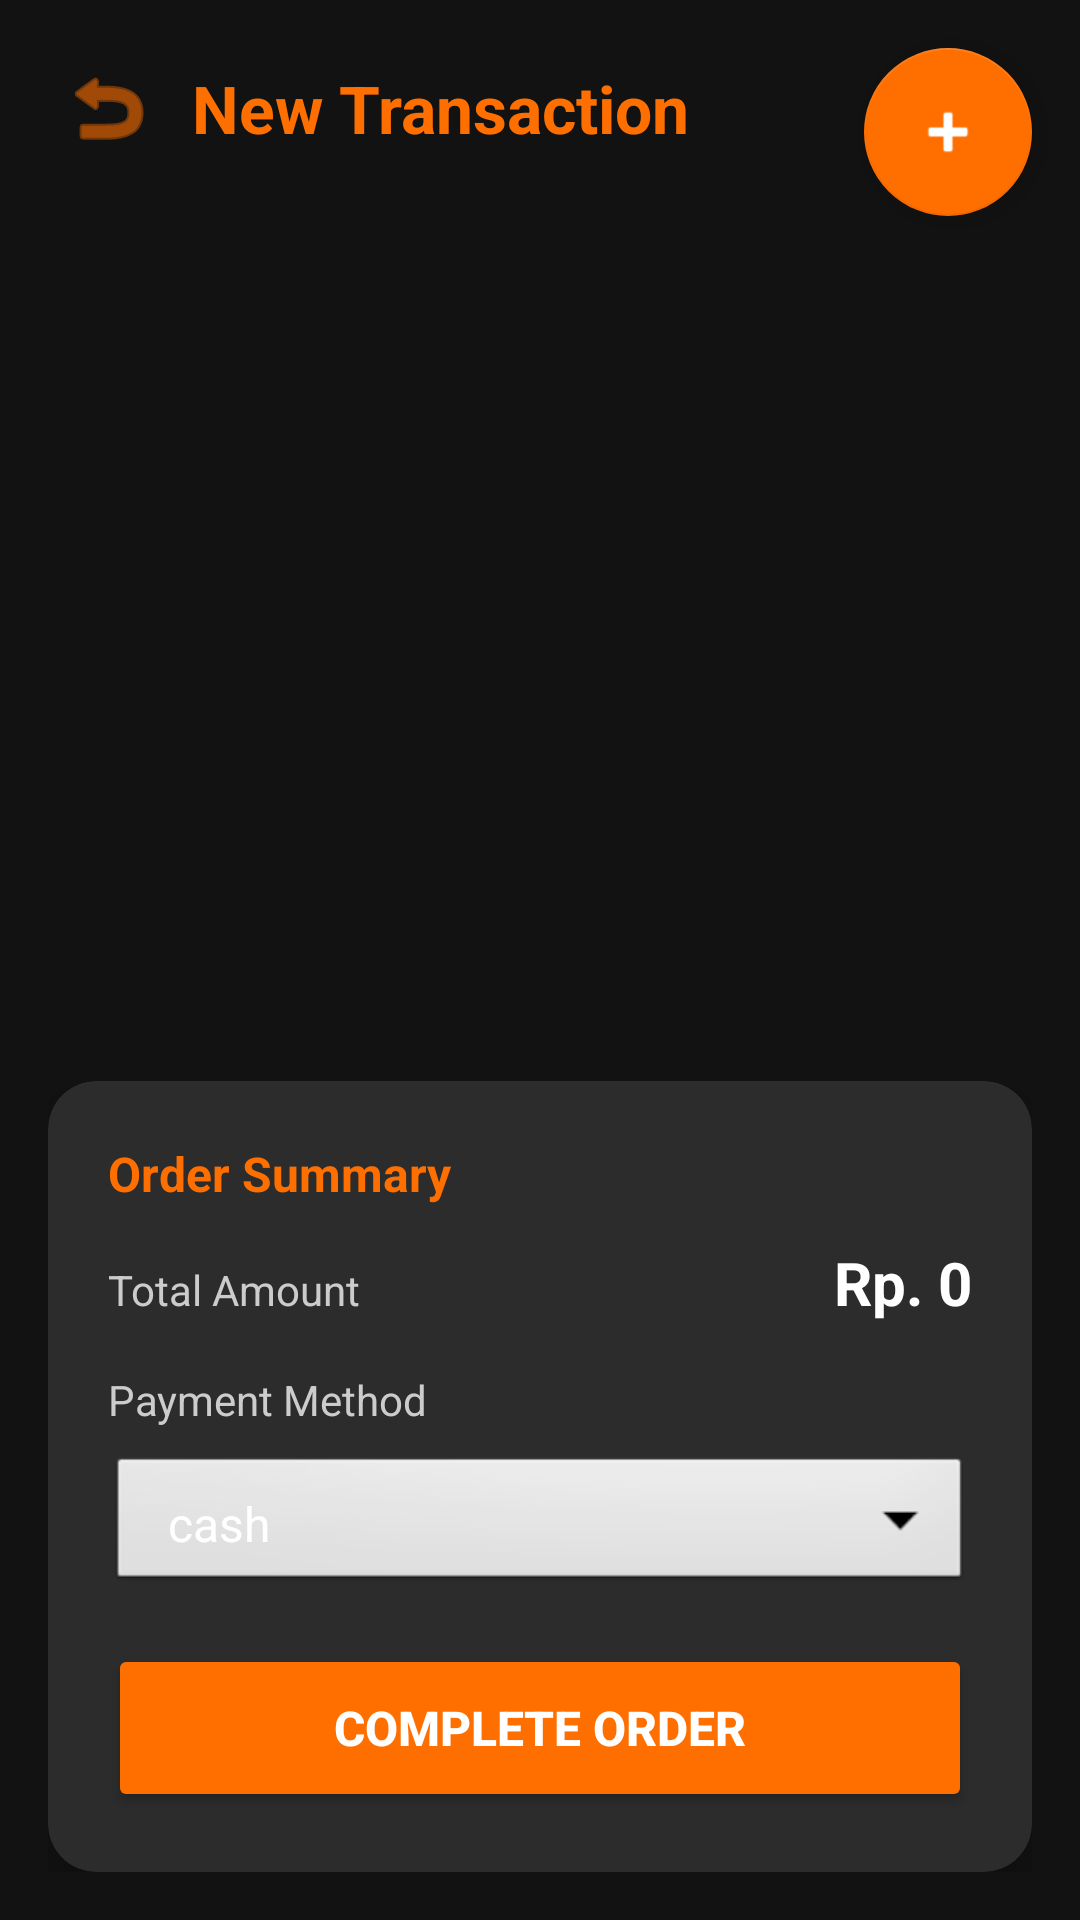

Screen size 1080px x 1920px. Icon name, then its box in pixels as (x1, y1, x2, y2):
Add Product: (864, 48, 1032, 216)
Back: (75, 77, 144, 140)
